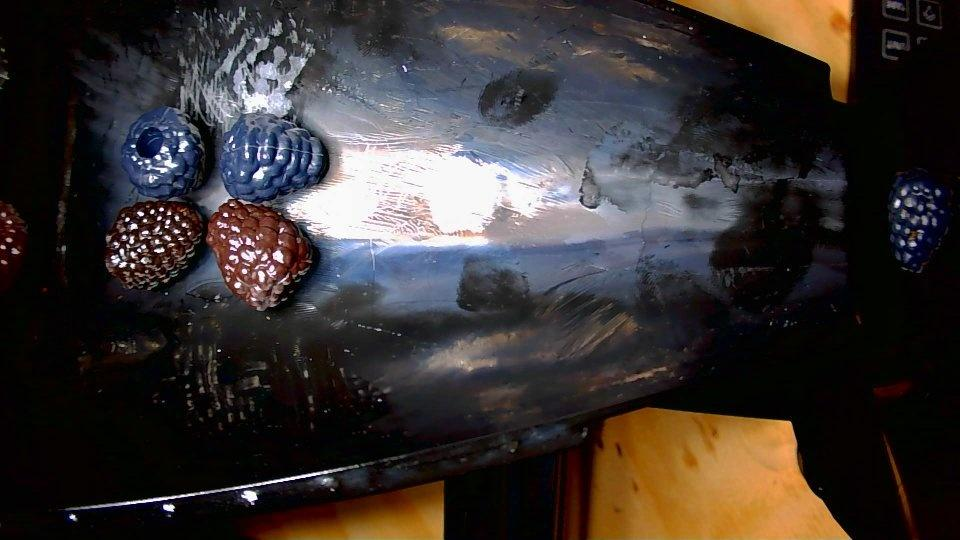berry: (206, 199, 312, 310), (219, 113, 327, 202), (104, 201, 203, 289), (121, 107, 204, 199), (889, 169, 951, 272), (0, 200, 27, 292)
